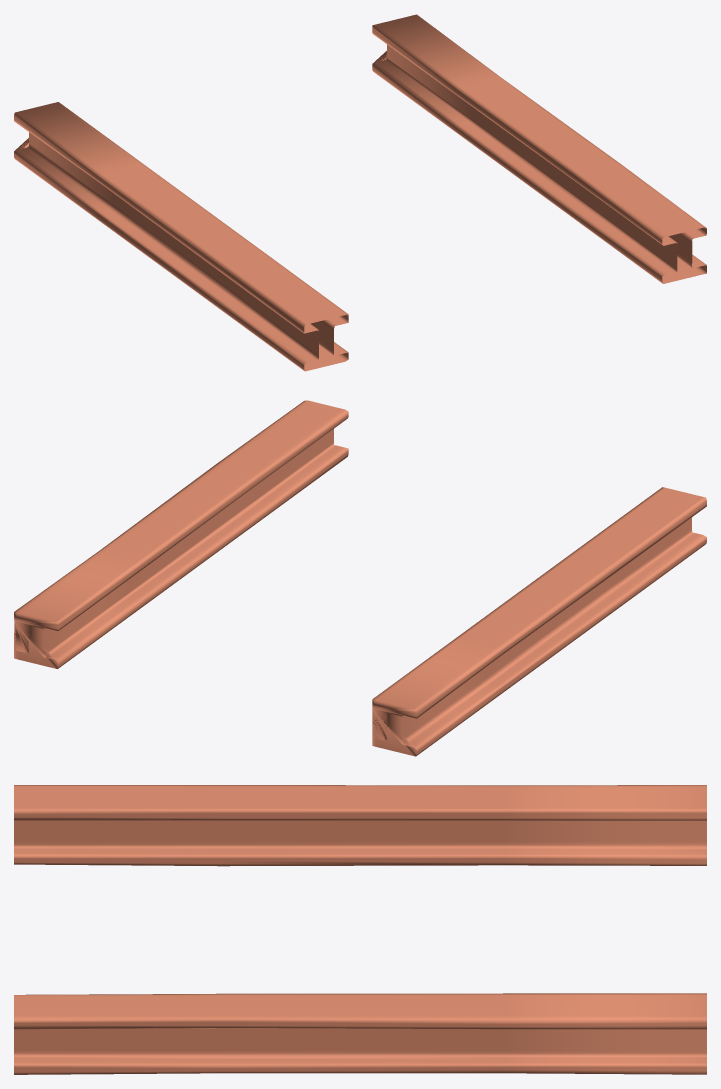
File: Industrial_New_Beams_2.fbx
The picture shows the model from 3 angles, top to bottom: view 1: azimuth 30°, elevation 25°; view 2: azimuth 150°, elevation 25°; view 3: azimuth 270°, elevation 25°; orthographic projection. The views are drawn at different scales.
Visible parts, largest first — view 1: NurbsPath.004; view 2: NurbsPath.004; view 3: NurbsPath.004.
Boxes of the visible parts, x1,y1,x2,y2 form: NurbsPath.004: [14, 14, 706, 371]; NurbsPath.004: [14, 400, 706, 756]; NurbsPath.004: [14, 785, 706, 1074].
Bounding box in the file's own units: 226 × 25 × 282.
